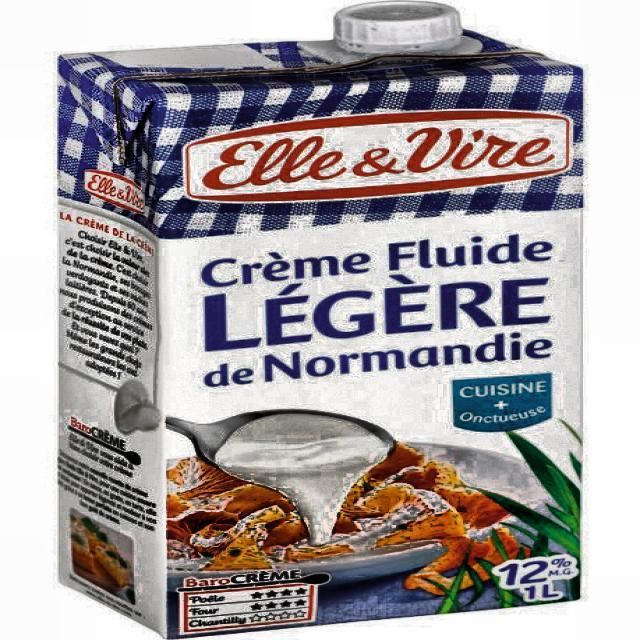cardboard: (54, 11, 586, 638)
